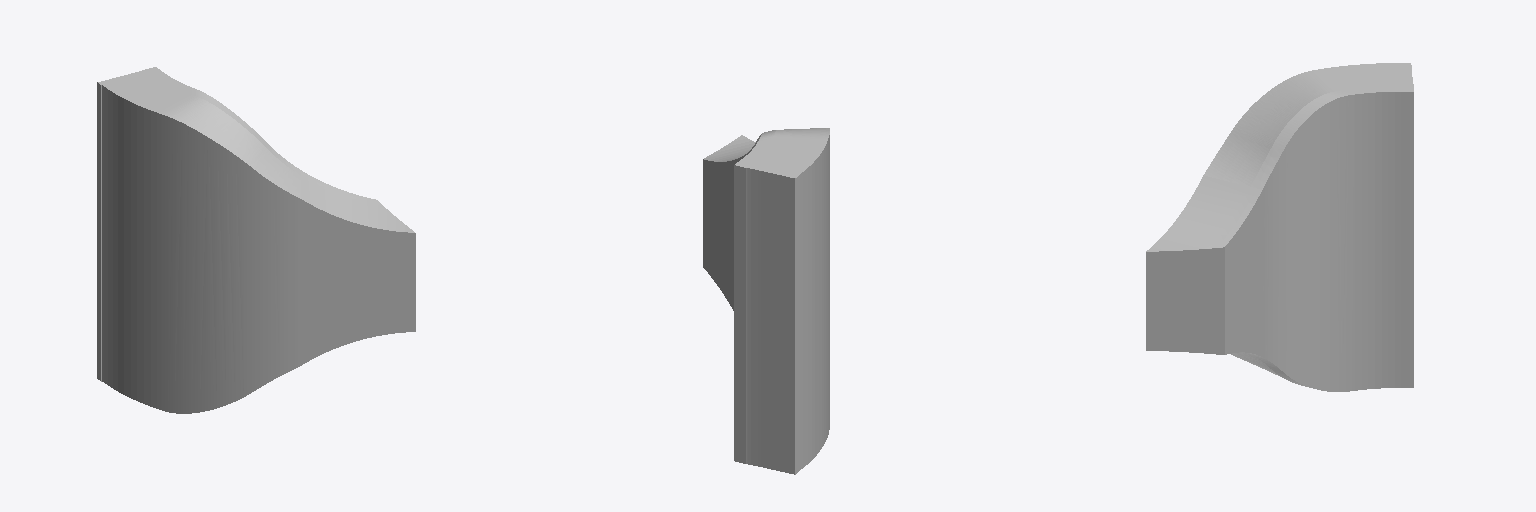
File: SpatulaCenter.obj
3 views of the same model, side by side, from view 1: azimuth 30°, elevation 25°; view 2: azimuth 150°, elevation 25°; view 3: azimuth 270°, elevation 25° (orthographic).
Bounding box in the file's own units: 0.05 × 0.0762 × 0.0625.